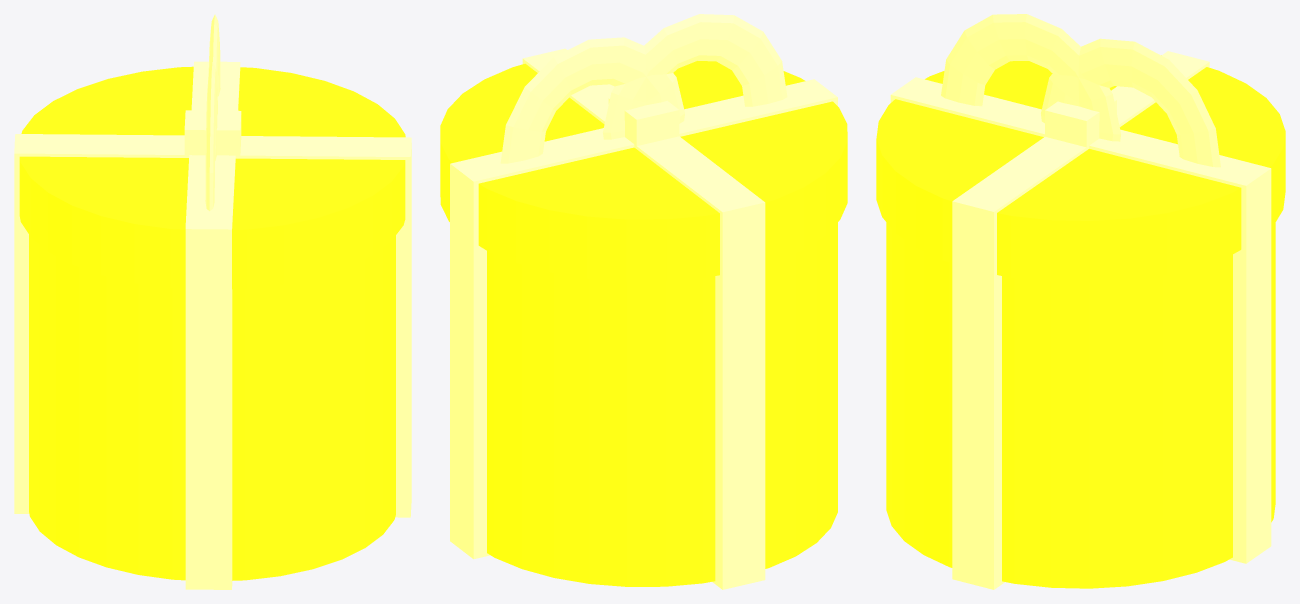
File: Tmpl_Round_Root_216.glb
3 renders of one model, left to right at view 1: azimuth 30°, elevation 25°; view 2: azimuth 150°, elevation 25°; view 3: azimuth 270°, elevation 25°, orthographic. The views are drawn at different scales.
Parts seen in each view (by area): view 1: Tmpl_Round_Base.214, Tmpl_Round_Lid.214, Tmpl_Round_Ribbon_X.214, Tmpl_Round_Ribbon_Y.214, Tmpl_Round_BowKnot.214, Tmpl_Round_BowL.214, Tmpl_Round_BowR.214; view 2: Tmpl_Round_Base.214, Tmpl_Round_Lid.214, Tmpl_Round_Ribbon_Y.214, Tmpl_Round_Ribbon_X.214, Tmpl_Round_BowL.214, Tmpl_Round_BowR.214, Tmpl_Round_BowKnot.214; view 3: Tmpl_Round_Base.214, Tmpl_Round_Lid.214, Tmpl_Round_Ribbon_Y.214, Tmpl_Round_Ribbon_X.214, Tmpl_Round_BowL.214, Tmpl_Round_BowR.214, Tmpl_Round_BowKnot.214.
Part boxes in pixels (x1,y1,x2,y2): Tmpl_Round_Base.214: [29, 235, 395, 580]; Tmpl_Round_Lid.214: [19, 66, 405, 289]; Tmpl_Round_Ribbon_X.214: [185, 61, 240, 589]; Tmpl_Round_Ribbon_Y.214: [14, 134, 411, 517]; Tmpl_Round_BowKnot.214: [184, 110, 241, 158]; Tmpl_Round_BowL.214: [205, 61, 217, 211]; Tmpl_Round_BowR.214: [208, 14, 220, 160]; Tmpl_Round_Base.214: [487, 222, 837, 586]; Tmpl_Round_Lid.214: [440, 61, 847, 281]; Tmpl_Round_Ribbon_Y.214: [522, 48, 765, 589]; Tmpl_Round_Ribbon_X.214: [450, 79, 837, 559]; Tmpl_Round_BowL.214: [603, 14, 787, 139]; Tmpl_Round_BowR.214: [500, 37, 684, 163]; Tmpl_Round_BowKnot.214: [608, 98, 679, 148]; Tmpl_Round_Base.214: [886, 222, 1275, 588]; Tmpl_Round_Lid.214: [876, 55, 1285, 282]; Tmpl_Round_Ribbon_Y.214: [952, 51, 1209, 589]; Tmpl_Round_Ribbon_X.214: [890, 77, 1271, 563]; Tmpl_Round_BowL.214: [941, 14, 1120, 141]; Tmpl_Round_BowR.214: [1041, 38, 1220, 167]; Tmpl_Round_BowKnot.214: [1045, 99, 1116, 149].
Size of the model in its own units: 1.14 by 1.48 by 1.14.
